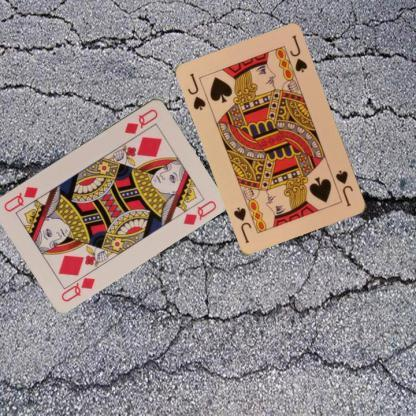Js: (186, 70, 208, 112), (333, 168, 355, 209)
Qd: (58, 267, 96, 303), (122, 106, 159, 136)
